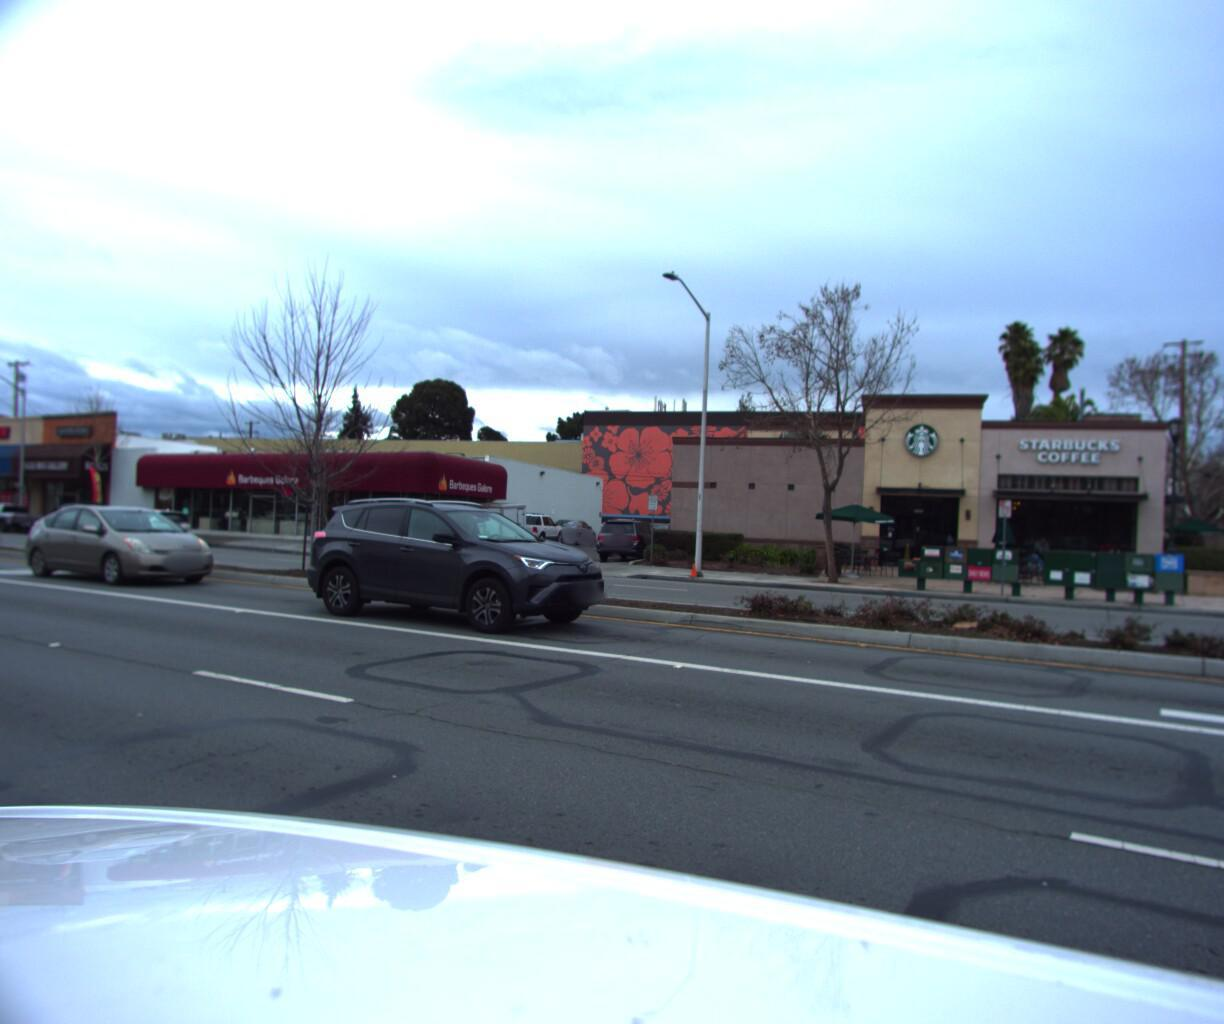car: (297, 495, 648, 648), (7, 504, 239, 593), (103, 506, 206, 551), (592, 514, 665, 568), (42, 504, 128, 542), (0, 503, 53, 540)
other_vehicle: (460, 496, 537, 552)
